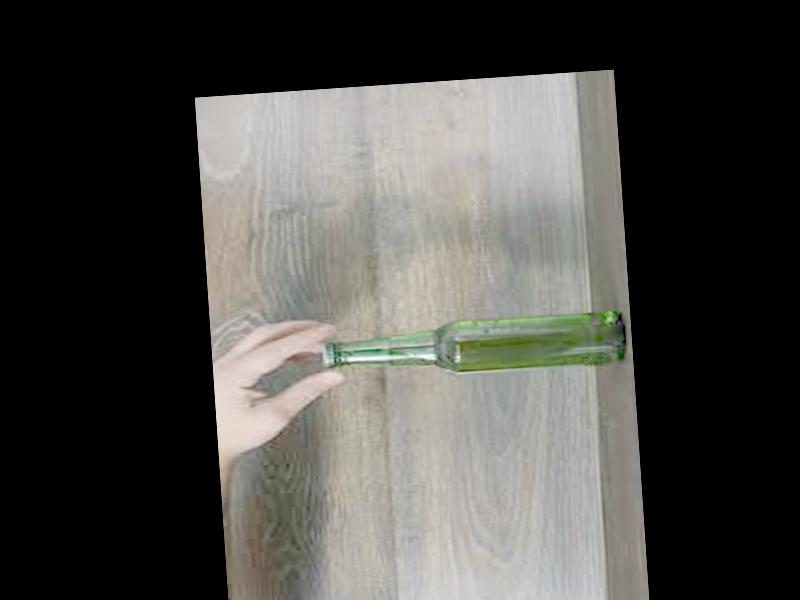Beer: (319, 310, 626, 384)
